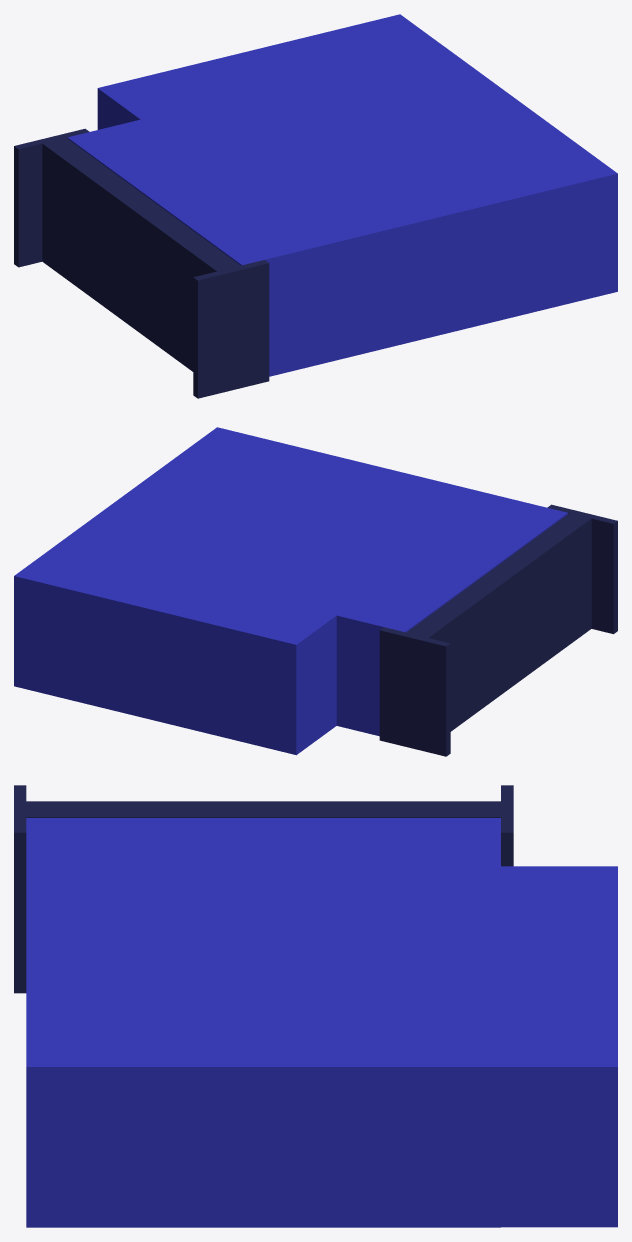
Rendered from l-block.glb.
The picture shows the model from 3 angles, top to bottom: view 1: azimuth 30°, elevation 25°; view 2: azimuth 150°, elevation 25°; view 3: azimuth 270°, elevation 25°; orthographic projection. The views are drawn at different scales.
Visible parts, largest first — view 1: Cube, Cube.001, Cube.002; view 2: Cube, Cube.002, Cube.001; view 3: Cube, Cube.002, Cube.001.
Part boxes in pixels (x1,y1,x2,y2): Cube: (67, 46, 617, 376); Cube.001: (14, 128, 269, 398); Cube.002: (97, 14, 442, 129); Cube: (54, 427, 567, 736); Cube.002: (14, 546, 336, 755); Cube.001: (379, 504, 617, 756); Cube: (26, 818, 500, 1227); Cube.002: (501, 866, 617, 1227); Cube.001: (14, 785, 513, 993).
Bounding box in the file's own units: 0.1787 × 0.0475 × 0.162.
